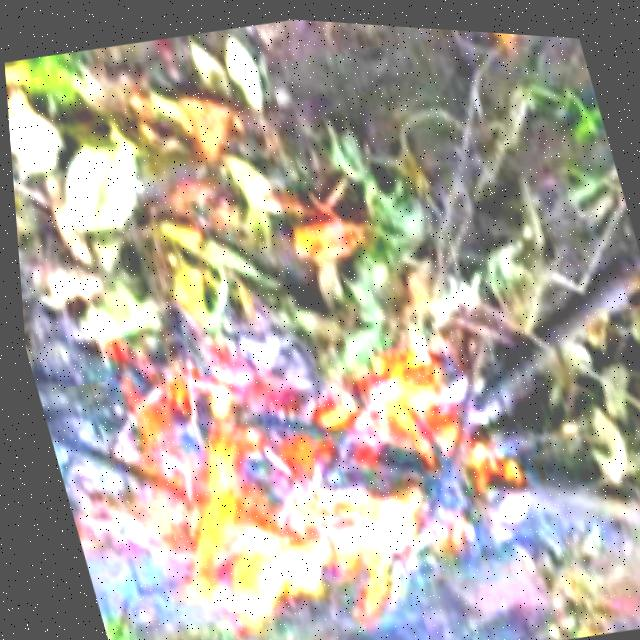Smoke: (87, 310, 520, 640)
